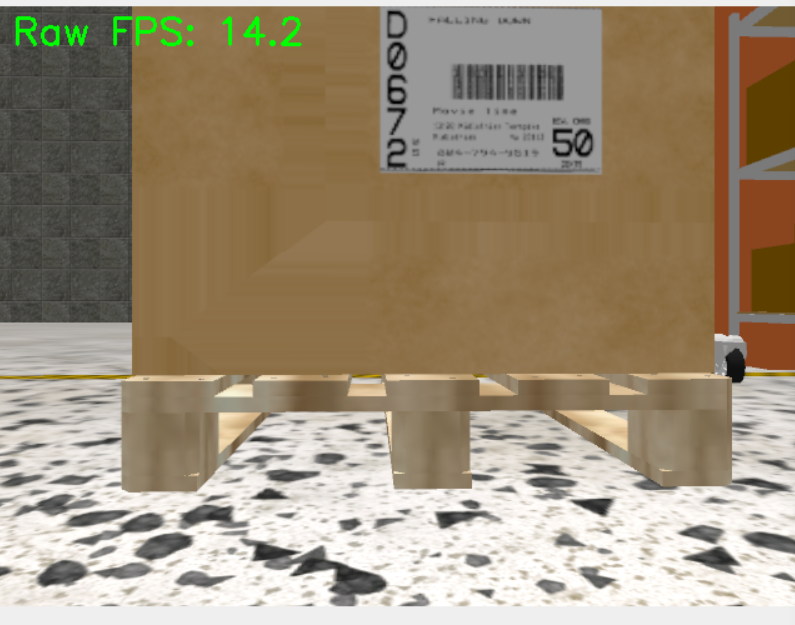barcode: (378, 6, 605, 176)
